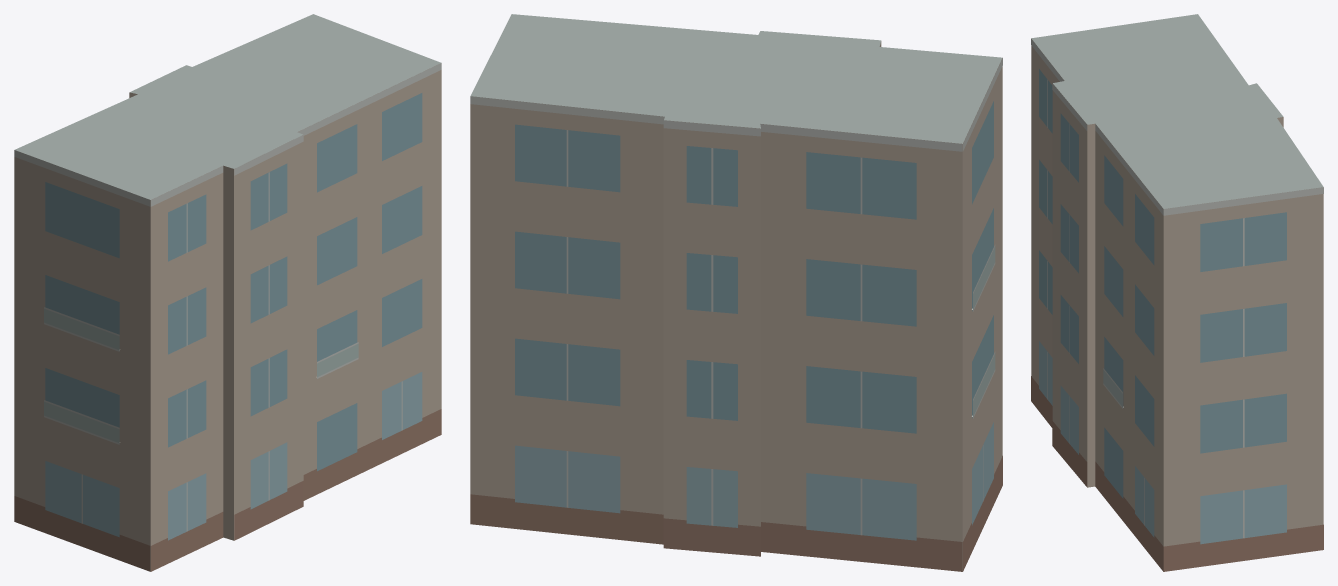
Rendered from survey-upis-32694761.glb.
3 views of the same model, side by side, from view 1: azimuth 30°, elevation 25°; view 2: azimuth 150°, elevation 25°; view 3: azimuth 270°, elevation 25° (orthographic). The views are drawn at different scales.
Parts seen in each view (by area): view 1: survey-upis-32694761.tmp; view 2: survey-upis-32694761.tmp; view 3: survey-upis-32694761.tmp.
Part boxes in pixels (bbox=[...]): survey-upis-32694761.tmp: bbox=[14, 14, 441, 571]; survey-upis-32694761.tmp: bbox=[470, 14, 1002, 571]; survey-upis-32694761.tmp: bbox=[1031, 14, 1323, 571].
Size of the model in its own units: 15.11 by 13.1 by 9.59.
